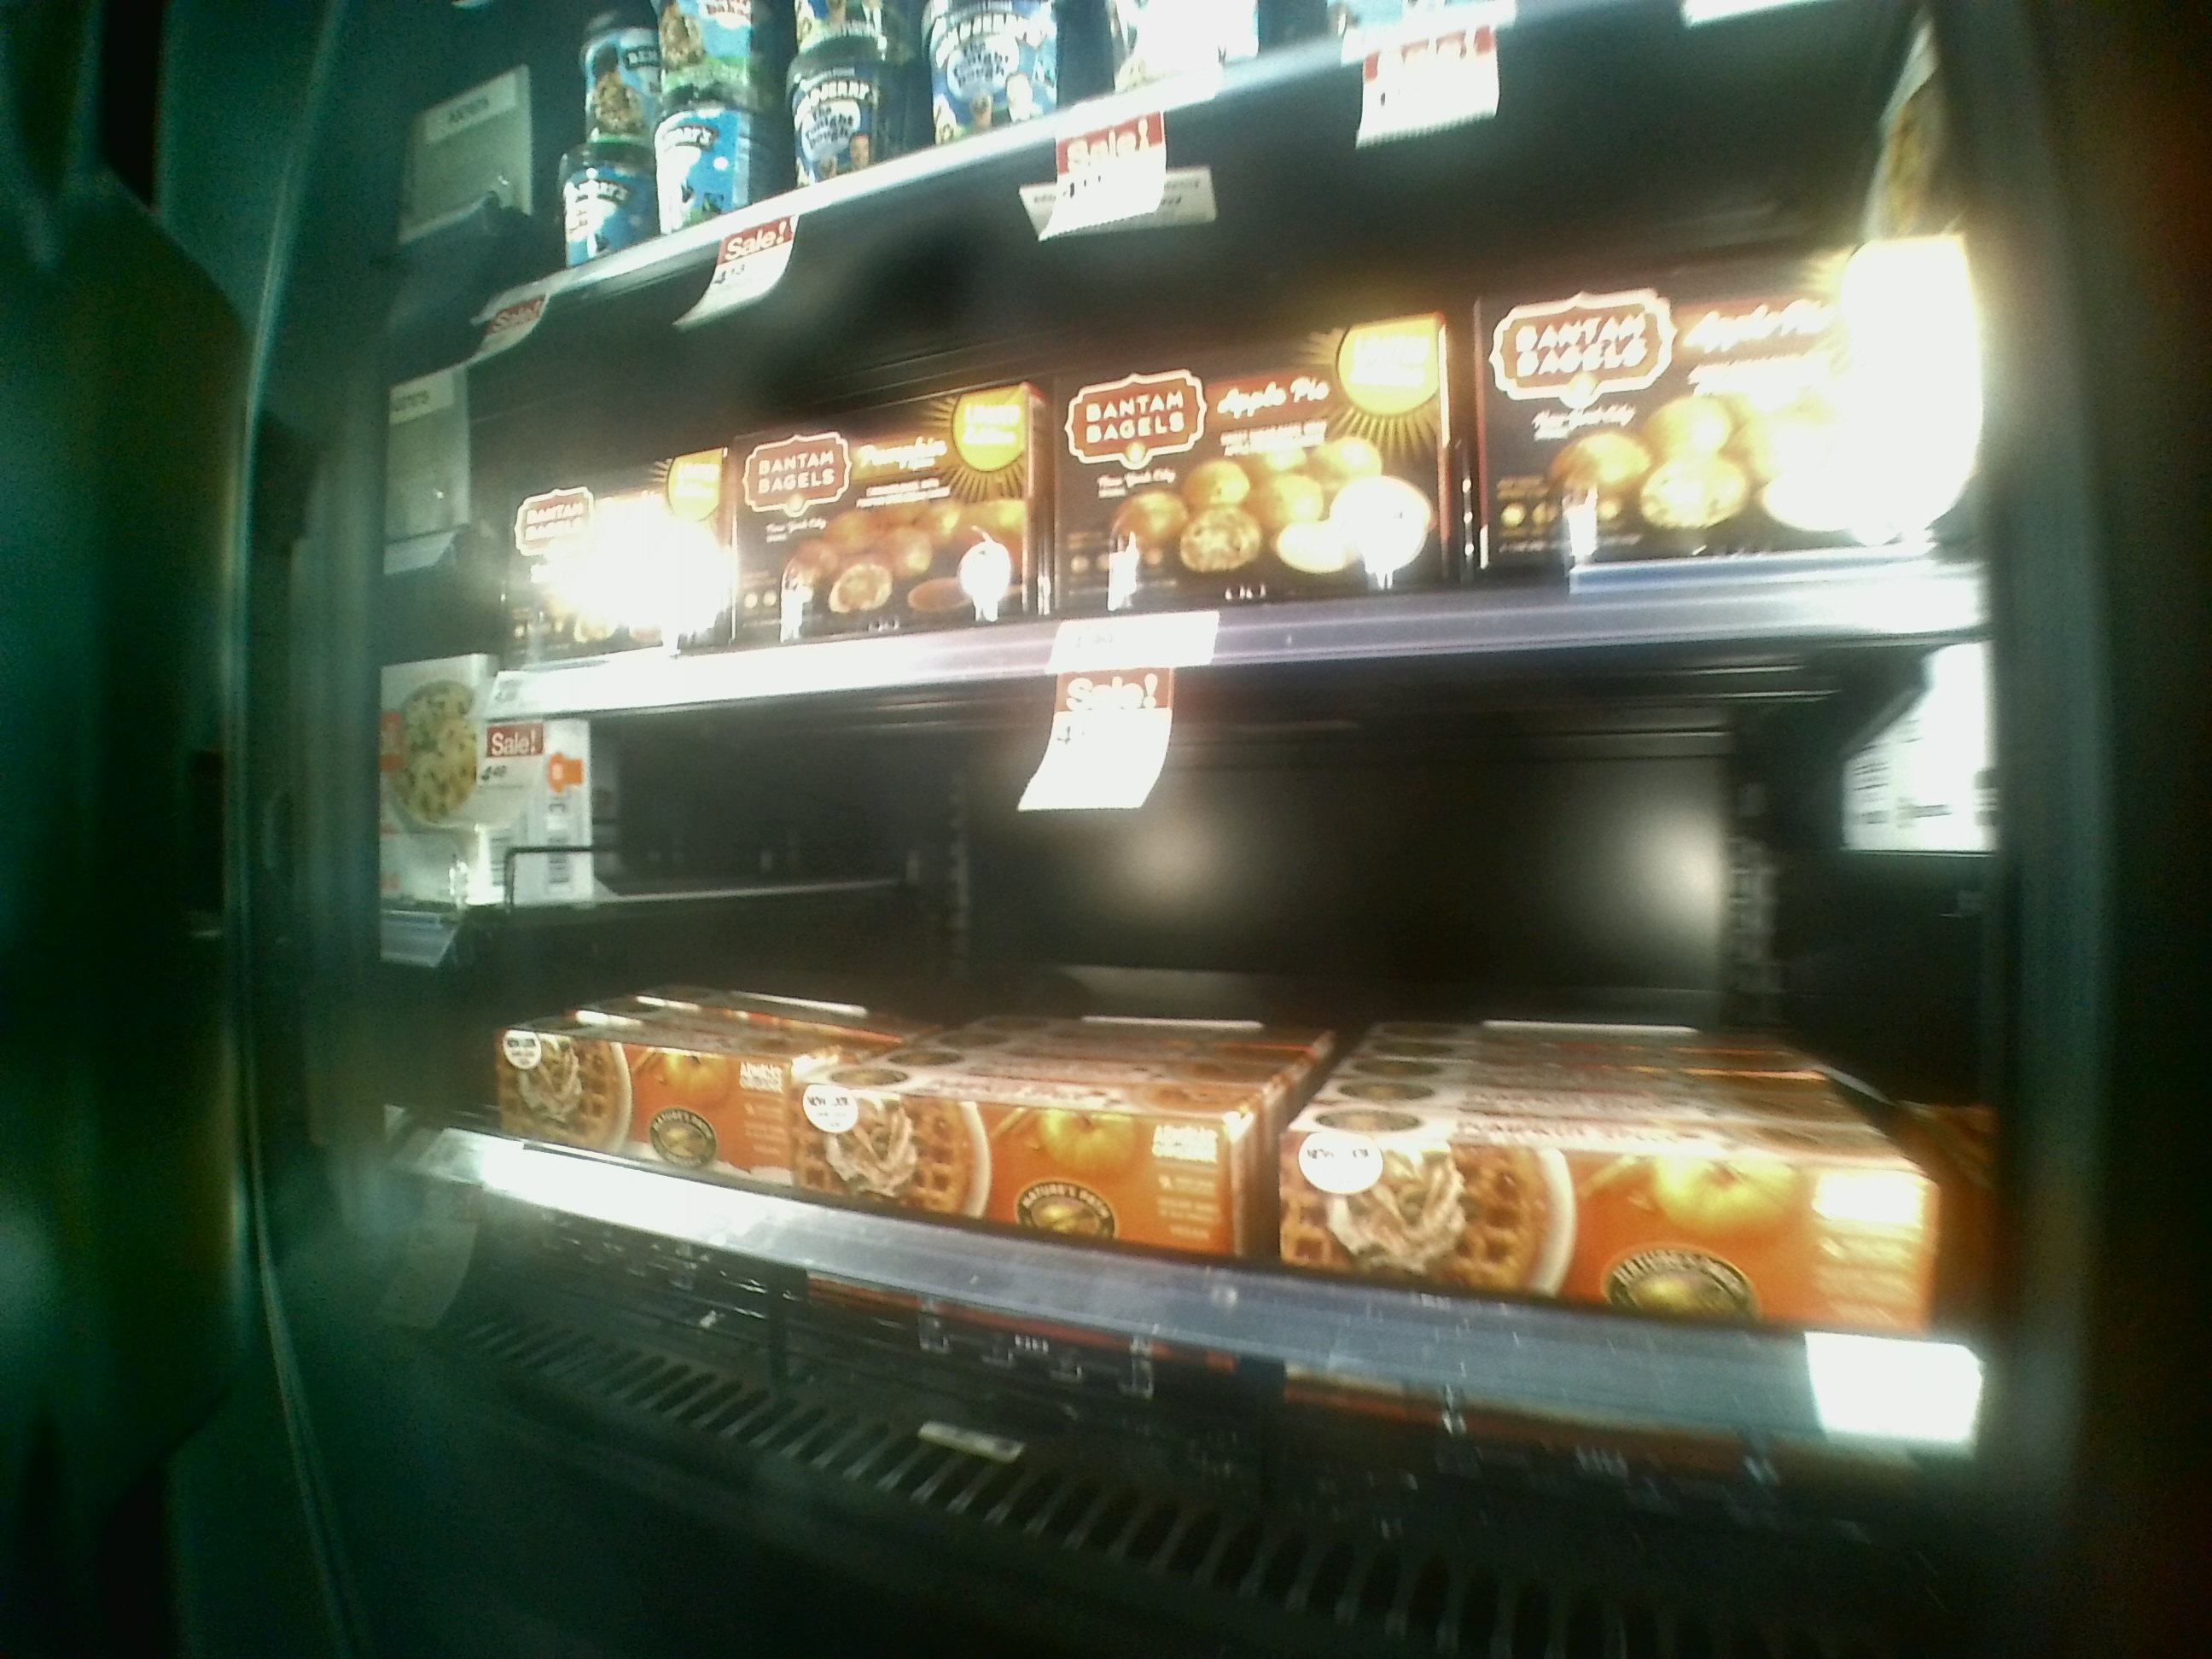shelf: (451, 645, 1986, 1466), (482, 176, 1998, 645)
